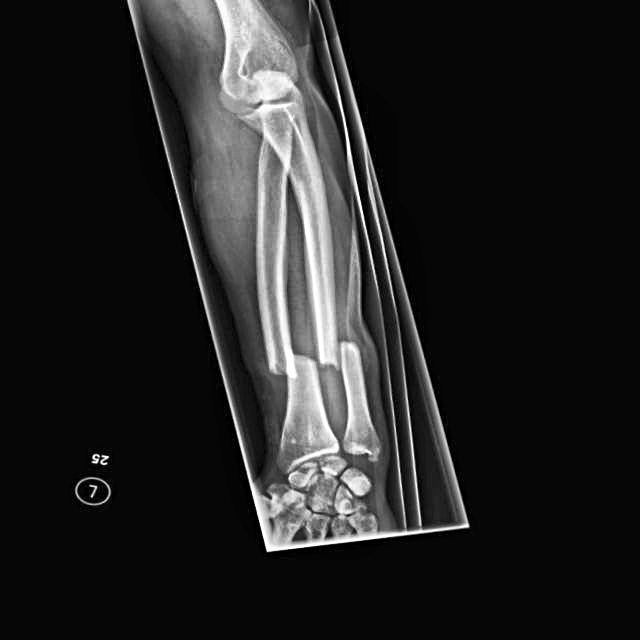Transverse: (313, 330, 365, 384), (258, 343, 318, 387)
